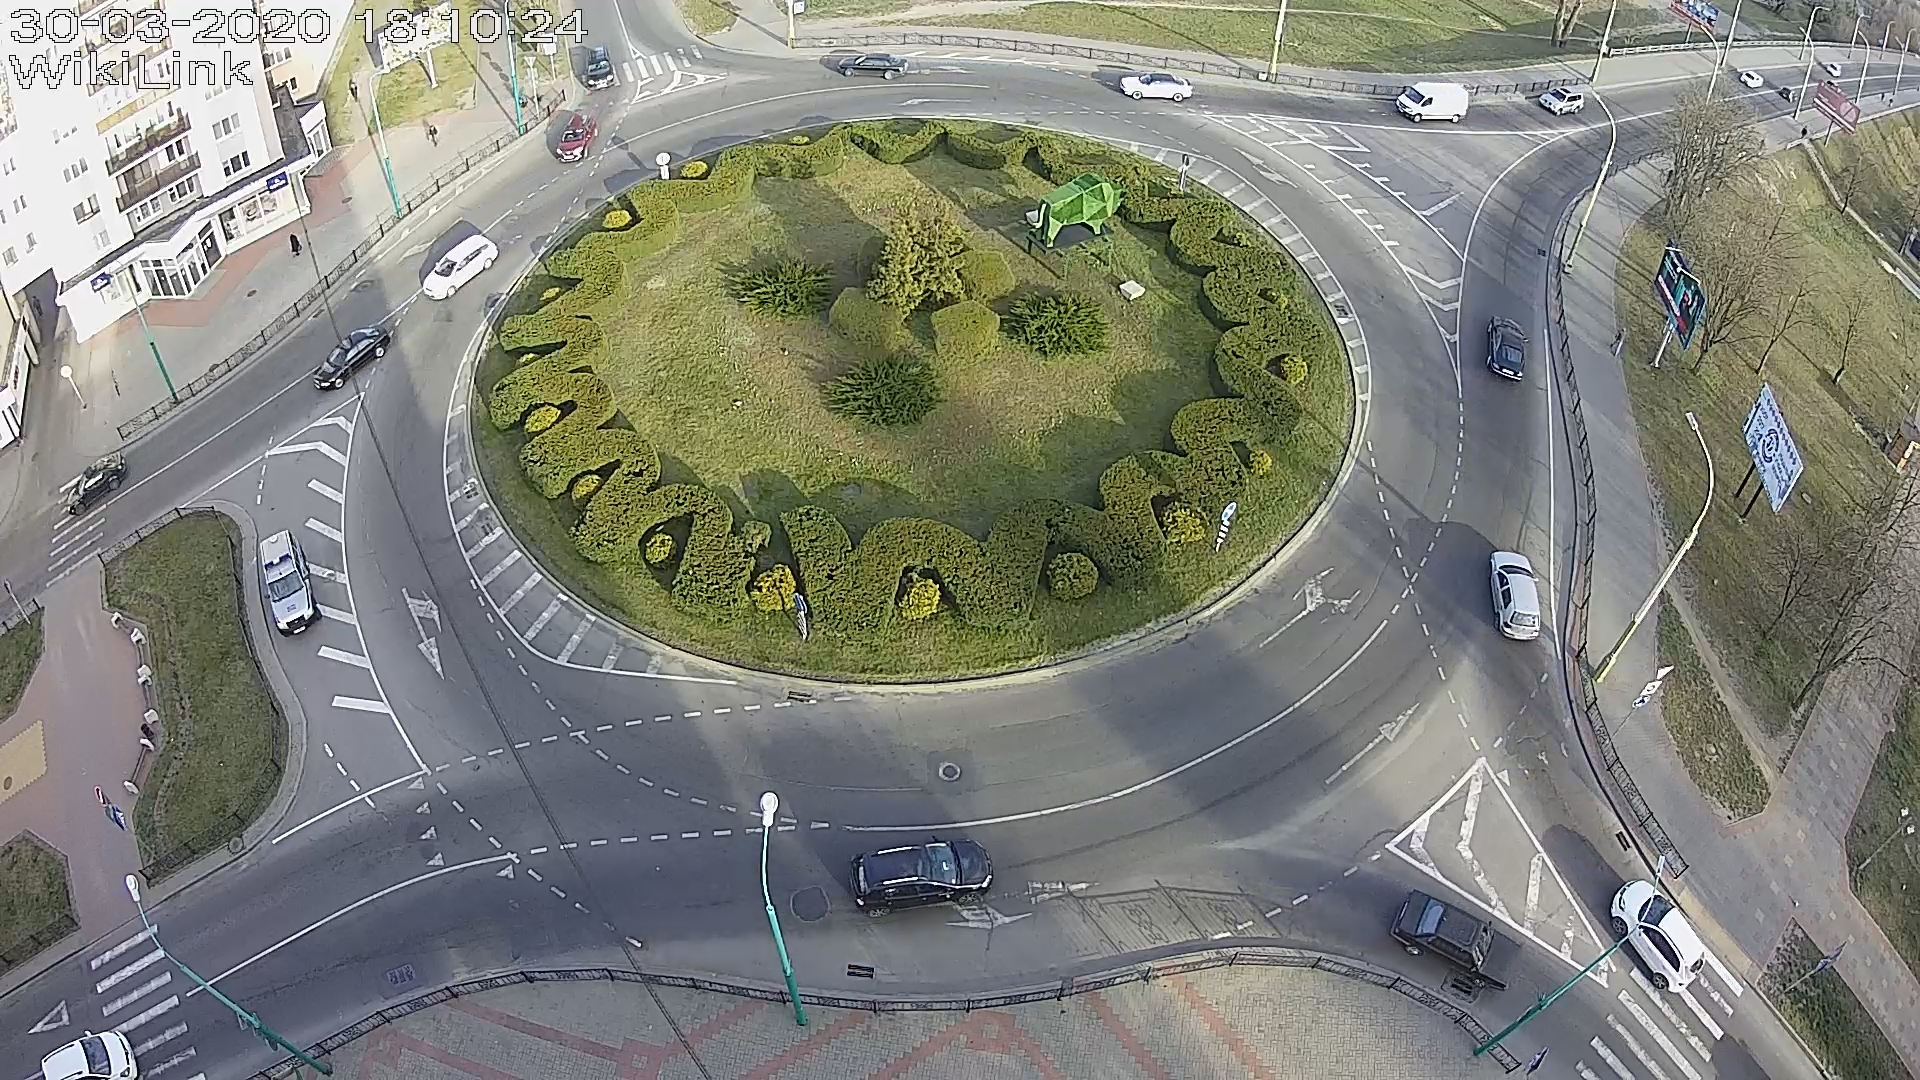car: (1389, 889, 1522, 993), (848, 835, 994, 919), (1610, 878, 1706, 994), (260, 530, 322, 638), (422, 233, 498, 301), (313, 324, 390, 390), (1487, 550, 1542, 642), (67, 451, 129, 516), (1395, 82, 1469, 124), (1485, 315, 1528, 382), (556, 108, 601, 164), (1120, 73, 1193, 102), (837, 51, 909, 80), (1539, 84, 1585, 116), (585, 44, 615, 91)
